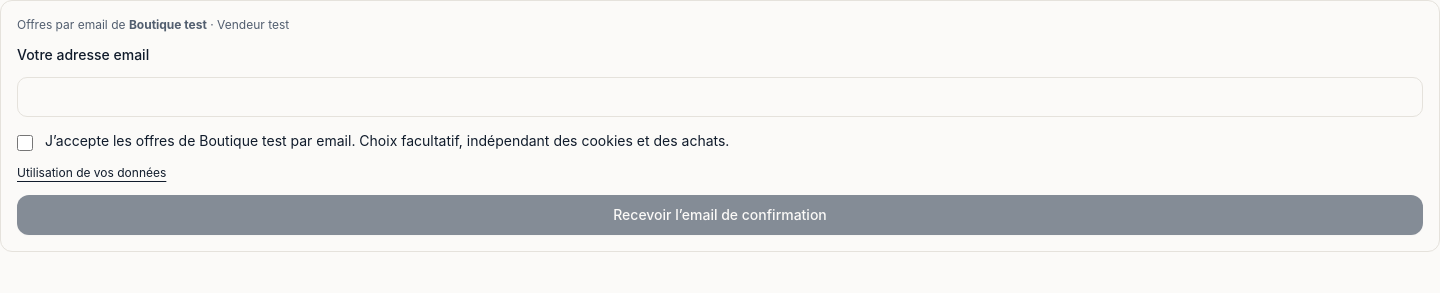
Scenario: optional email subscription › does not display success when the database, confirmation queue or endpoint is unavailable
This screenshot has width=1440, height=293.
Step 1. Type "buyer@example.test" into the field labelled "Votre adresse email" → {"x": 720, "y": 97}, box [17, 77, 1423, 117]
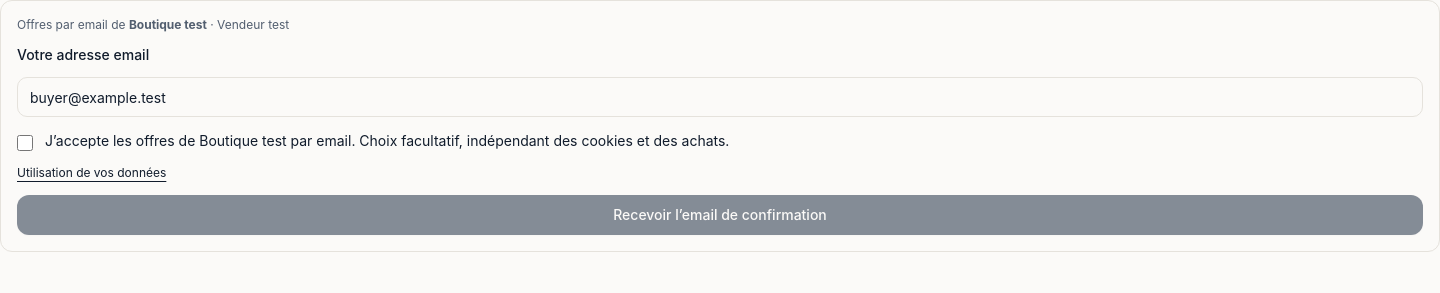
Step 2. Click the checkbox → {"x": 25, "y": 143}, box [17, 135, 33, 151]
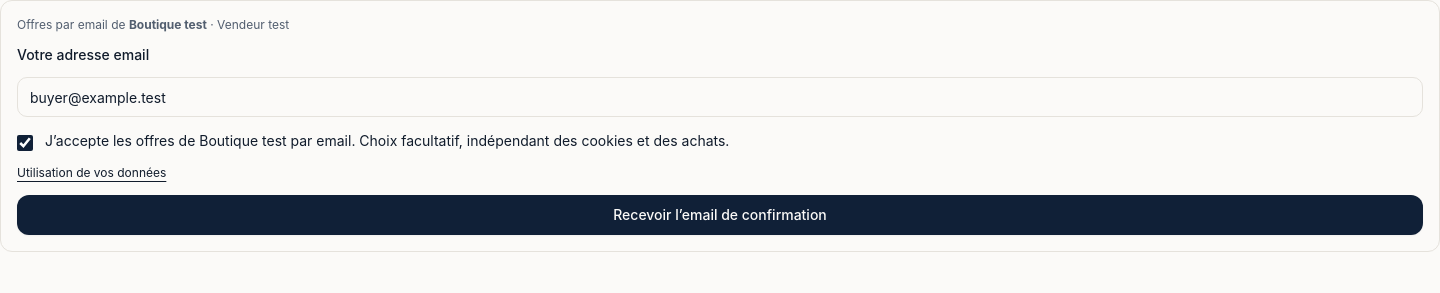
Step 3. Click the button "Recevoir l’email de confirmation" → {"x": 720, "y": 215}, box [17, 195, 1423, 235]
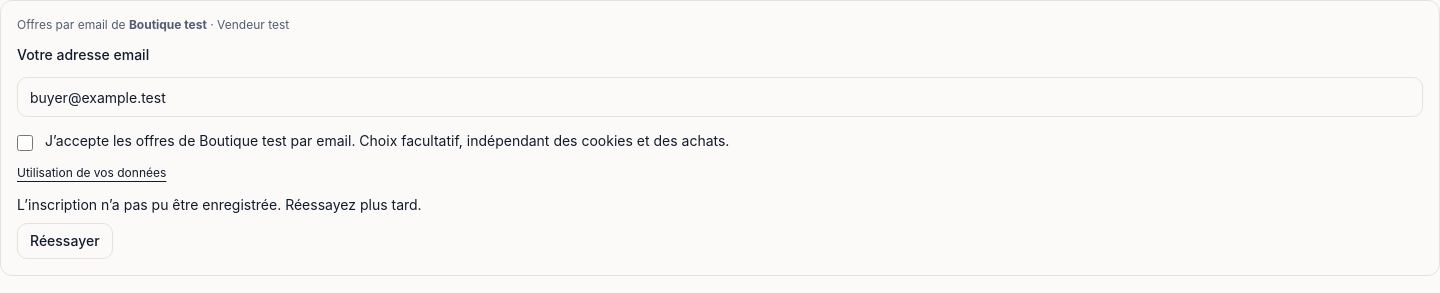
Now the checkbox is not checked, box [17, 135, 33, 151]
Now the message "L’inscription n’a pas pu être enregistrée. Réessayez plus tard. Réessayer" is shown, box [17, 196, 422, 259]
